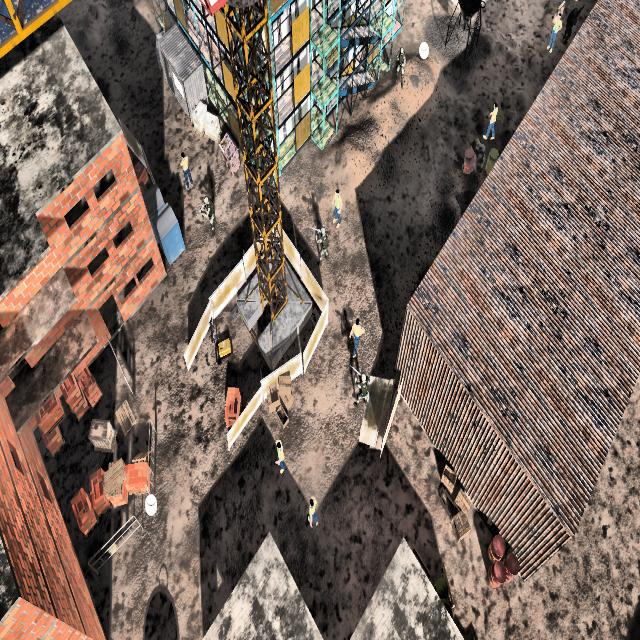bad: (350, 363, 374, 415), (312, 220, 331, 268), (198, 194, 218, 233), (393, 39, 408, 90), (564, 2, 580, 48)
good: (267, 435, 289, 481), (176, 144, 195, 194), (348, 305, 365, 360), (543, 5, 561, 54), (483, 94, 499, 148), (329, 185, 344, 232), (306, 492, 321, 530)
